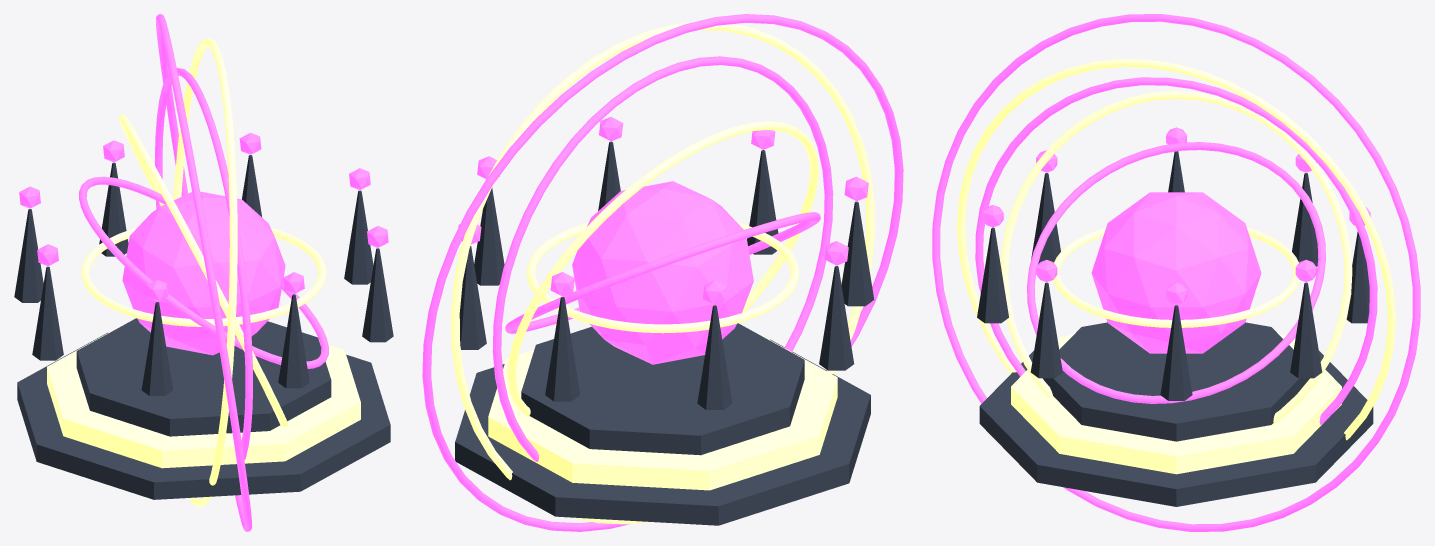
Rendered from gpu-blender-v46.glb.
3 views of the same model, side by side, from view 1: azimuth 30°, elevation 25°; view 2: azimuth 150°, elevation 25°; view 3: azimuth 270°, elevation 25° (orthographic). The views are drawn at different scales.
Parts seen in each view (by area): view 1: Cylinder.002, Cylinder, SovereignCore_mcp-lens, Cylinder.001, Torus.005, Torus.004, Torus.003, Torus.001, Torus, Torus.002, Cone.007, Cone.006 (+6 smaller); view 2: Cylinder.002, SovereignCore_mcp-lens, Cylinder, Cylinder.001, Torus.005, Torus.004, Torus.003, Torus.002, Torus.001, Torus, Cone.004, Cone.002 (+6 smaller); view 3: SovereignCore_mcp-lens, Cylinder.002, Cylinder, Cylinder.001, Torus.005, Torus.004, Torus.003, Torus.002, Torus.001, Torus, Cone.001, Cone.007 (+5 smaller).
Boxes of the visible parts, left/top/right/bottom form: Cylinder.002: left=76, top=318, right=331, bottom=436; Cylinder: left=17, top=332, right=390, bottom=499; SovereignCore_mcp-lens: left=122, top=191, right=285, bottom=355; Cylinder.001: left=47, top=325, right=360, bottom=468; Torus.005: left=156, top=14, right=251, bottom=531; Torus.004: left=173, top=38, right=237, bottom=507; Torus.003: left=155, top=68, right=252, bottom=459; Torus.001: left=79, top=176, right=328, bottom=368; Torus: left=81, top=227, right=326, bottom=326; Torus.002: left=118, top=114, right=287, bottom=426; Cone.007: left=362, top=248, right=393, bottom=342; Cone.006: left=278, top=294, right=309, bottom=388; Cylinder.002: left=521, top=323, right=804, bottom=455; SovereignCore_mcp-lens: left=572, top=181, right=753, bottom=364; Cylinder: left=455, top=339, right=870, bottom=525; Cylinder.001: left=488, top=330, right=837, bottom=490; Torus.005: left=422, top=14, right=903, bottom=531; Torus.004: left=451, top=22, right=874, bottom=524; Torus.003: left=492, top=56, right=833, bottom=461; Torus.002: left=507, top=121, right=818, bottom=416; Torus.001: left=505, top=212, right=820, bottom=333; Torus: left=526, top=222, right=799, bottom=333; Cone.004: left=819, top=266, right=854, bottom=370; Cone.002: left=545, top=297, right=580, bottom=401; SovereignCore_mcp-lens: left=1091, top=192, right=1261, bottom=353; Cylinder.002: left=1043, top=322, right=1309, bottom=441; Cylinder: left=979, top=351, right=1373, bottom=506; Cylinder.001: left=1011, top=334, right=1341, bottom=474; Torus.005: left=932, top=14, right=1420, bottom=531; Torus.004: left=957, top=59, right=1395, bottom=440; Torus.003: left=975, top=77, right=1377, bottom=424; Torus.002: left=1001, top=91, right=1352, bottom=423; Torus.001: left=1027, top=142, right=1325, bottom=403; Torus: left=1053, top=227, right=1299, bottom=327; Cone.001: left=1290, top=282, right=1322, bottom=378; Cone.007: left=1030, top=282, right=1062, bottom=378.
Bounding box in the file's own units: 4.41 × 5.93 × 5.46.
